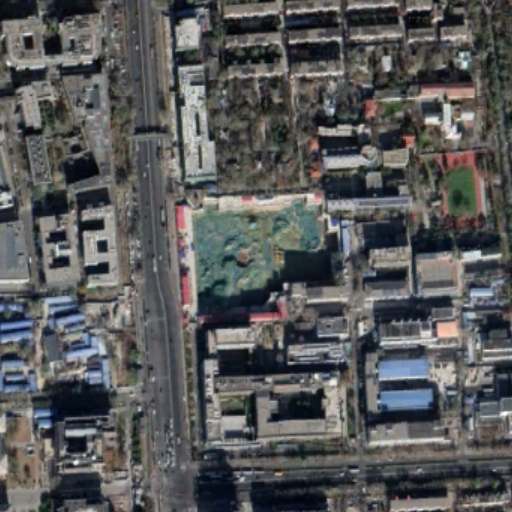cw: (185, 189, 336, 317)
